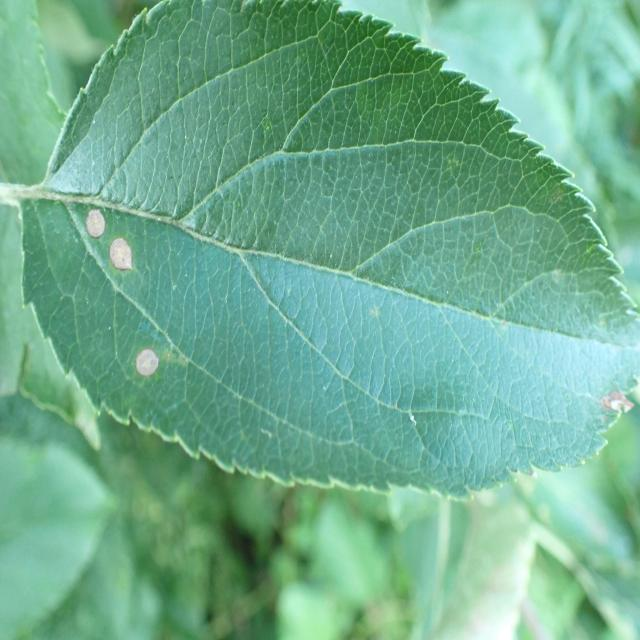Black Rot: (125, 332, 168, 393), (78, 186, 110, 253), (105, 216, 136, 284)
